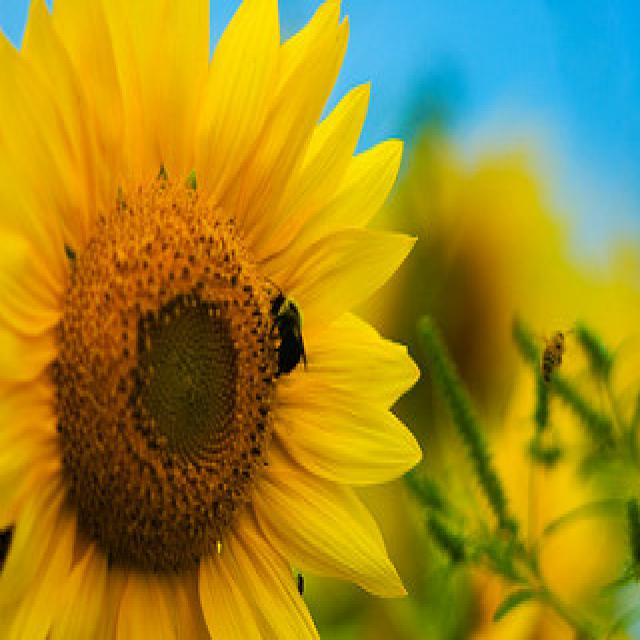sunflower: (0, 9, 412, 640)
